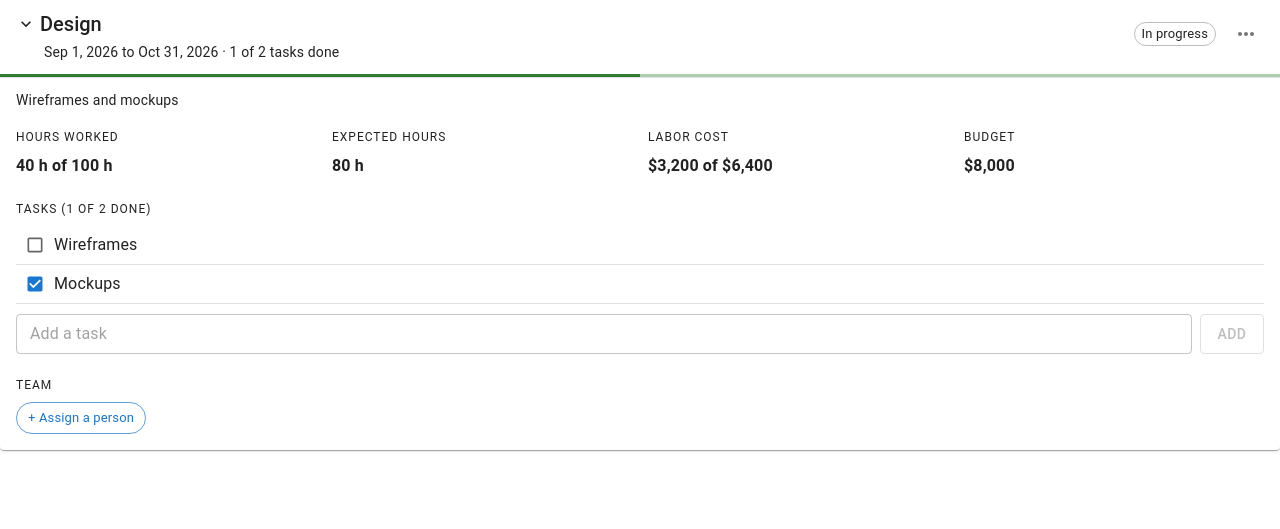
MilestoneCard: tasks › keeps the typed name and shows the reason when adding fails (duplicate name)
Type "Wireframes" into the field named "New task". click: [604, 334]
box: [16,314,1192,354]
Then press Enter
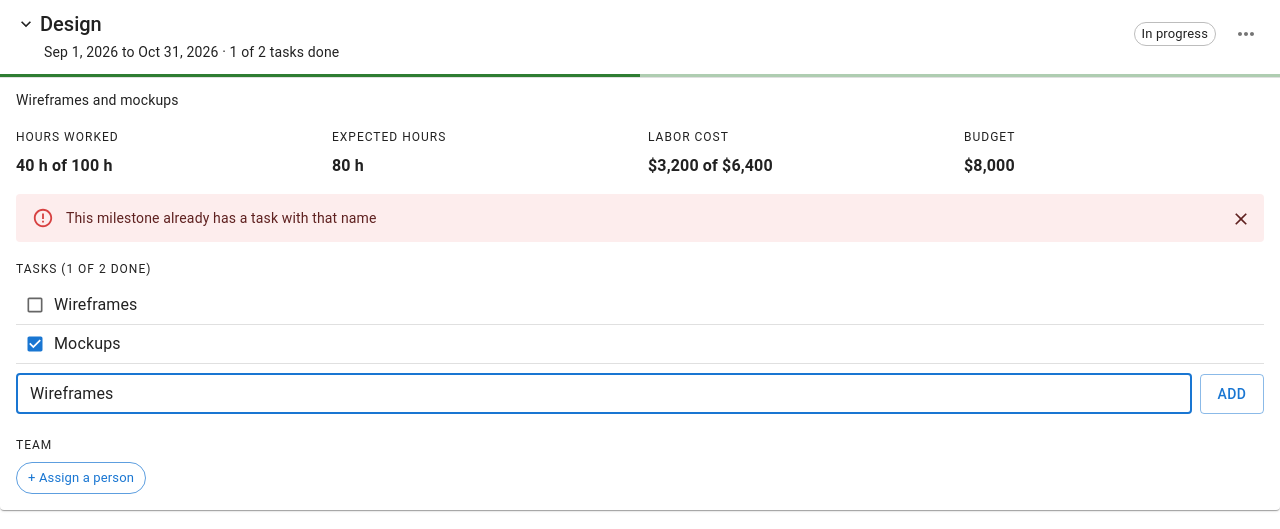
Expected: the text "This milestone already has a task with that name" is shown, [66,210,377,226]
